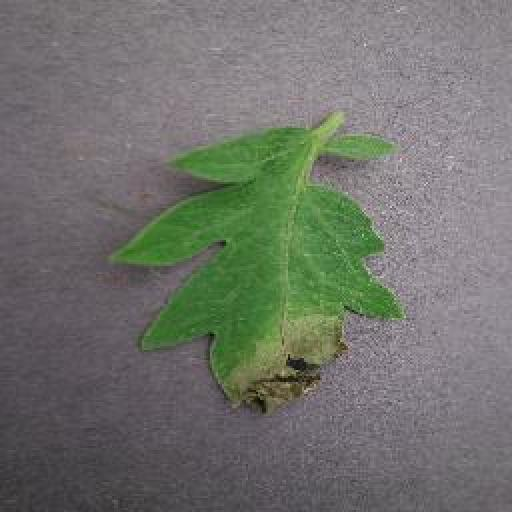Late Blight: (102, 127, 394, 421)
